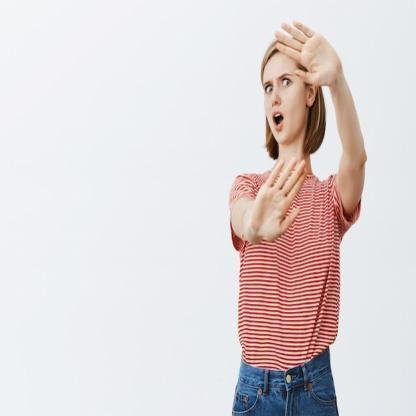stop: (273, 13, 346, 100), (248, 151, 308, 245)
